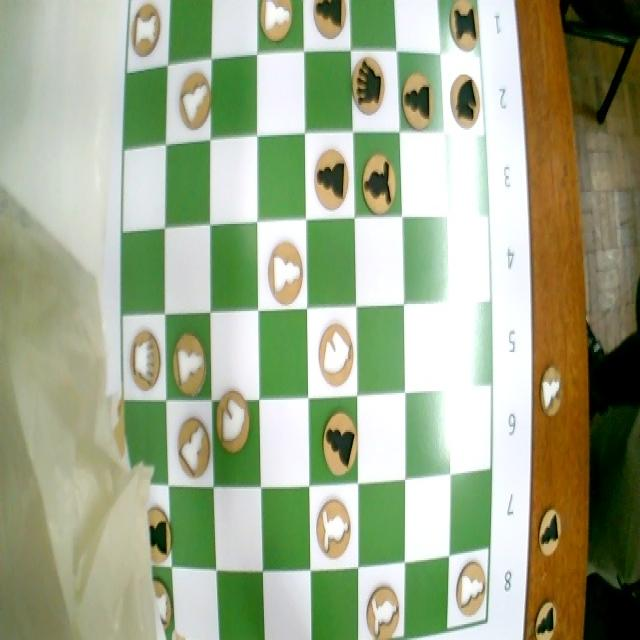chess-pieces: (260, 225, 306, 307), (352, 49, 397, 130), (166, 318, 210, 400), (313, 404, 360, 480), (312, 313, 356, 394), (358, 565, 403, 640), (307, 133, 351, 209), (358, 137, 400, 215), (400, 53, 440, 134), (311, 490, 355, 563), (215, 391, 260, 462), (124, 323, 164, 397), (450, 554, 487, 623), (130, 2, 168, 67), (173, 416, 210, 482), (444, 0, 484, 57), (177, 68, 210, 136), (308, 0, 348, 48), (450, 70, 483, 126)
